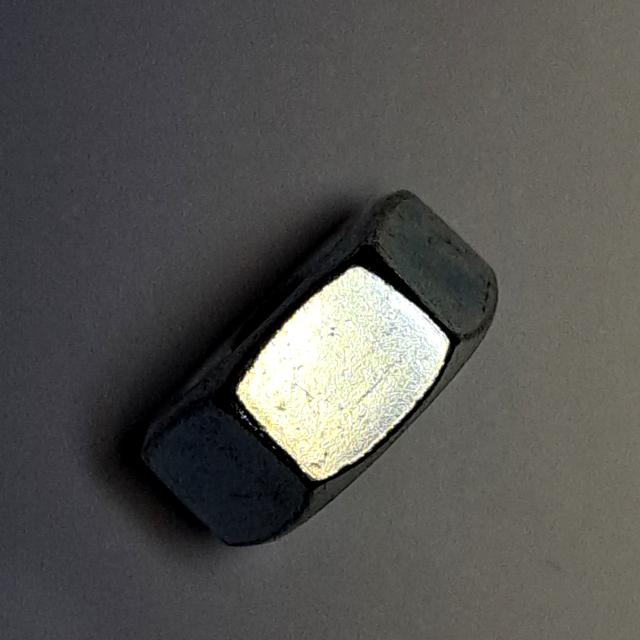Side_Excellent: (122, 173, 524, 561)
